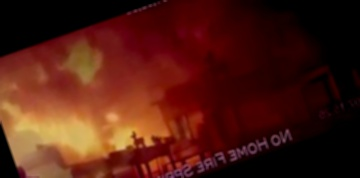fire: (0, 0, 244, 178)
